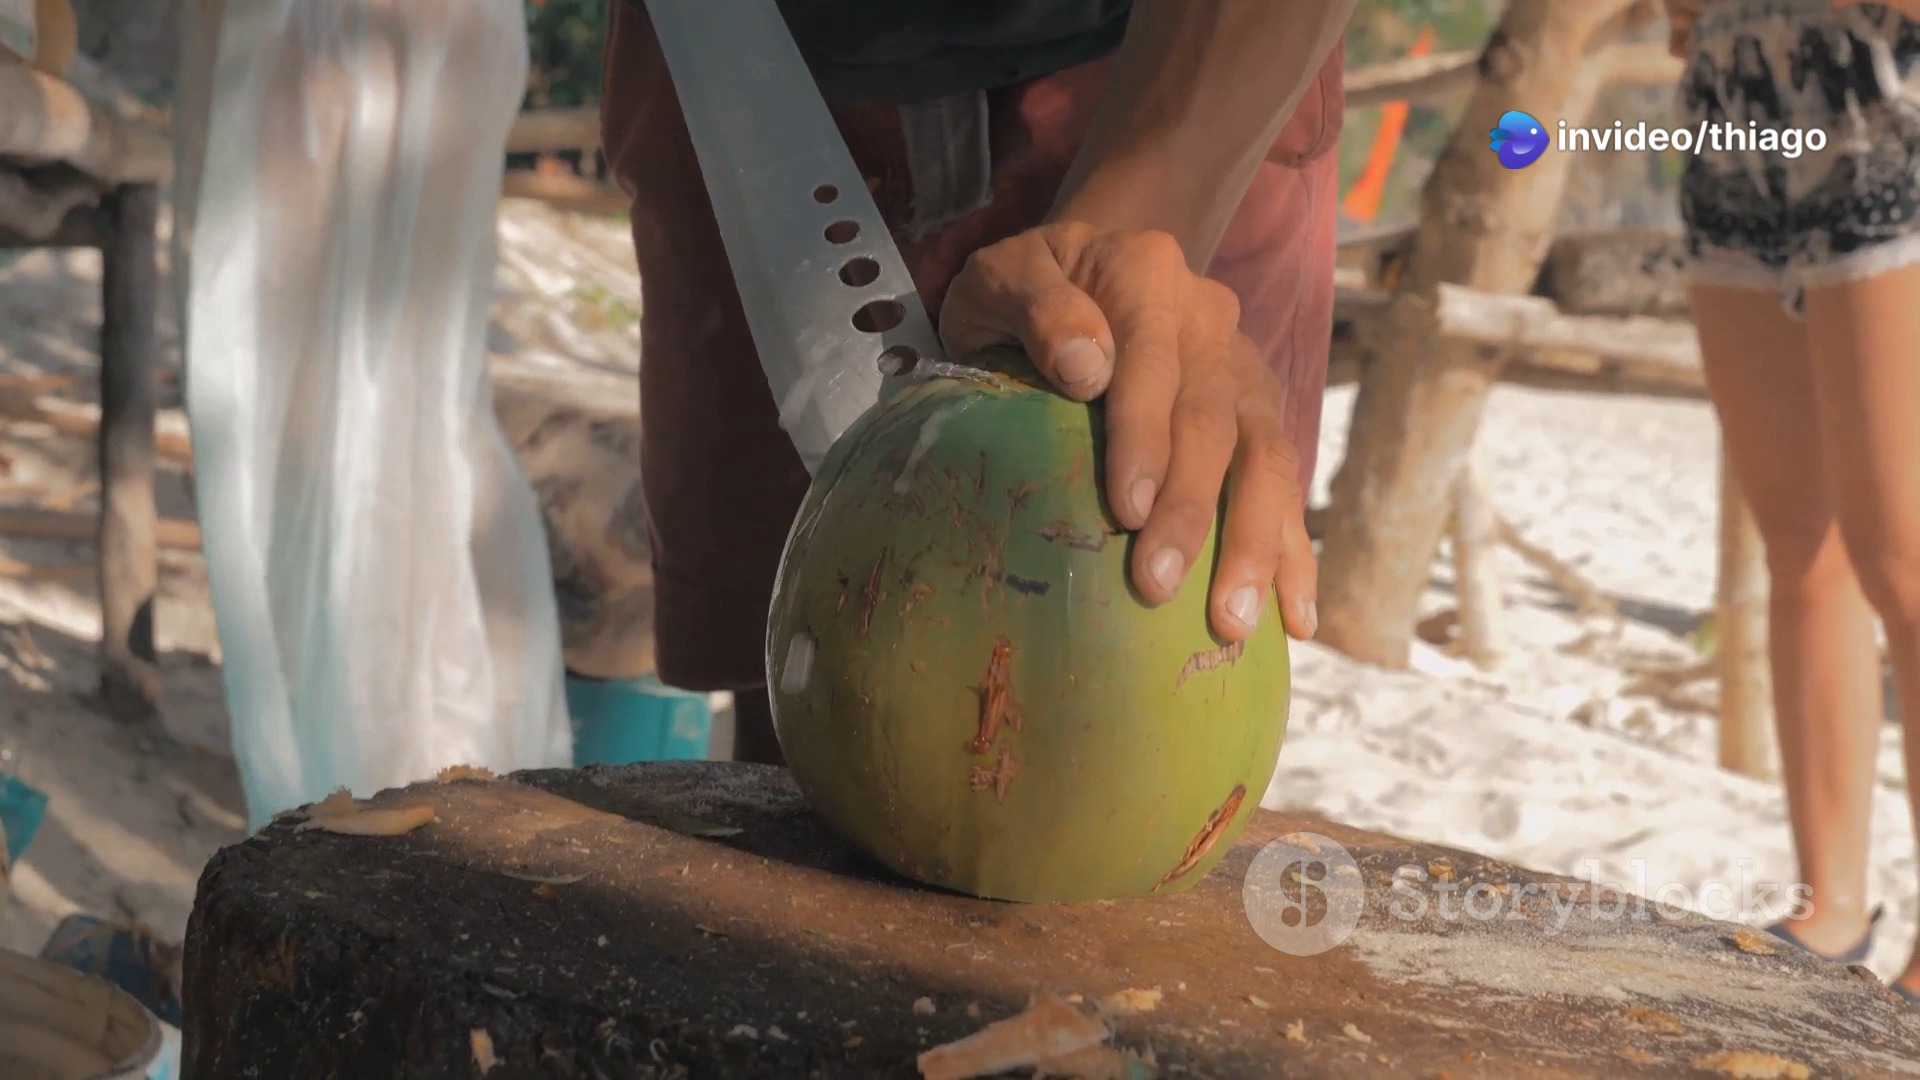cortante: (641, 0, 956, 480)
